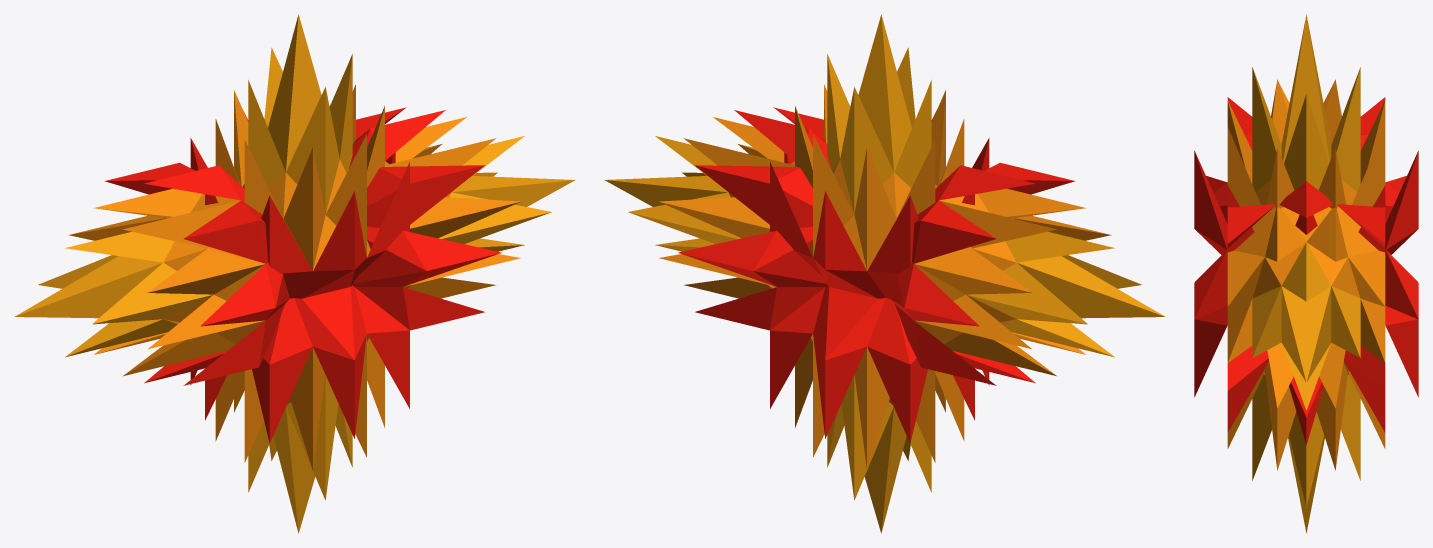
The model's file is model_3114_spotanim.obj.
The picture shows the model from 3 angles, left to right: view 1: azimuth 30°, elevation 25°; view 2: azimuth 150°, elevation 25°; view 3: azimuth 270°, elevation 25°; orthographic projection.
Visible parts, largest first — view 1: 3114; view 2: 3114; view 3: 3114.
Part boxes in pixels (x1,y1,x2,y2): 3114: (14,14,575,533); 3114: (604,14,1165,533); 3114: (1194,14,1418,533).
Size of the model in its own units: 156 by 138 by 54.
